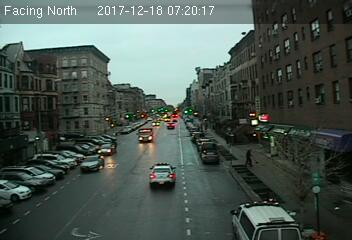car: (79, 154, 104, 170), (201, 149, 220, 164), (99, 142, 115, 154)
pedestrian: (244, 148, 253, 167)
police: (229, 199, 302, 240), (147, 162, 178, 187)
truck: (138, 127, 153, 141)
